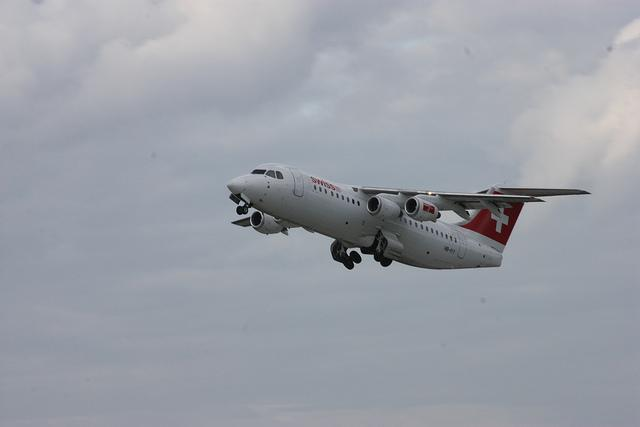airplane: (225, 160, 594, 272)
